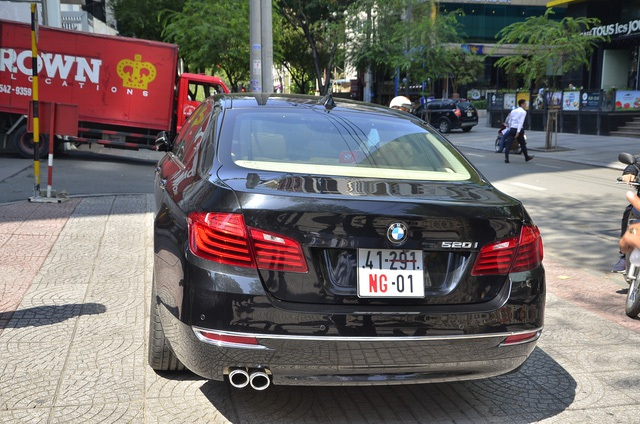plate: (354, 242, 426, 299)
